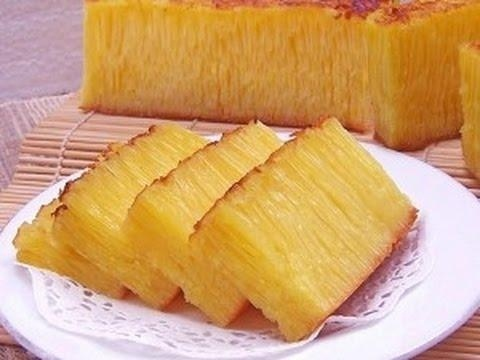bika_ambon: (97, 120, 284, 332), (76, 2, 372, 130), (225, 116, 398, 326)
